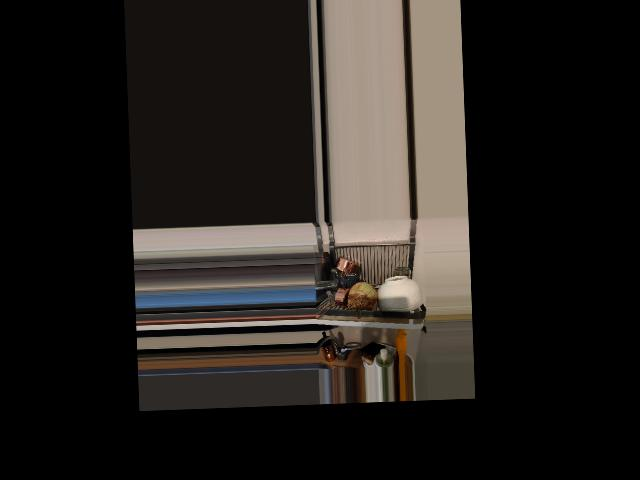onion: (348, 279, 377, 314)
